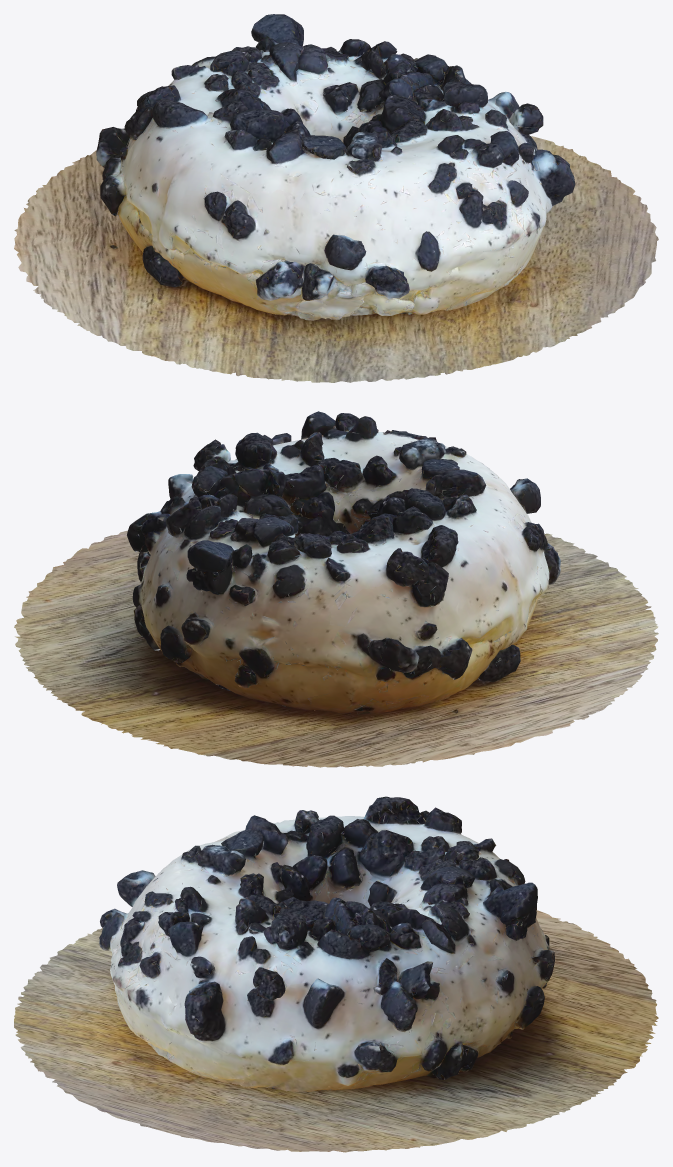
The model's file is oreo_donut-transformed.glb.
3 renders of one model, top to bottom at view 1: azimuth 30°, elevation 25°; view 2: azimuth 150°, elevation 25°; view 3: azimuth 270°, elevation 25°, orthographic.
Visible parts, largest first — view 1: Object_4; view 2: Object_4; view 3: Object_4.
Boxes of the visible parts, x1=… form: Object_4: x1=14, y1=14, x2=658, y2=382; Object_4: x1=14, y1=411, x2=658, y2=767; Object_4: x1=14, y1=796, x2=658, y2=1152.
Size of the model in its own units: 18.94 by 5.19 by 18.95.
Materials: 1 (1 with a texture image).
